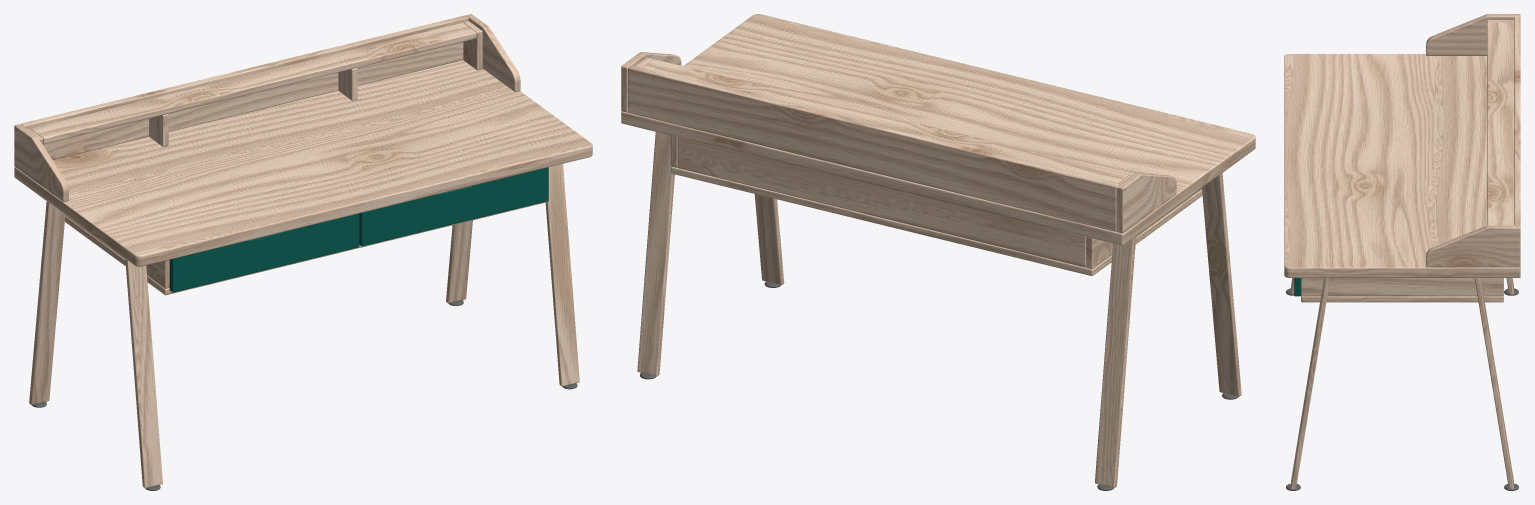
The model's file is green-desk.glb.
The picture shows the model from 3 angles, left to right: view 1: azimuth 30°, elevation 25°; view 2: azimuth 150°, elevation 25°; view 3: azimuth 270°, elevation 25°; orthographic projection. The views are drawn at different scales.
Visible parts, largest first — view 1: main_mesh_n3d, drawer_001_mesh_n3d, drawer_002_mesh_n3d; view 2: main_mesh_n3d; view 3: main_mesh_n3d.
Part boxes in pixels (x1,y1,x2,y2): main_mesh_n3d: [14, 14, 592, 488]; drawer_001_mesh_n3d: [169, 213, 359, 292]; drawer_002_mesh_n3d: [359, 167, 548, 246]; main_mesh_n3d: [621, 14, 1255, 487]; main_mesh_n3d: [1284, 14, 1520, 489].
Bounding box in the file's own units: 1.5 × 0.88 × 0.7.
Materials: 5 (2 with a texture image).
